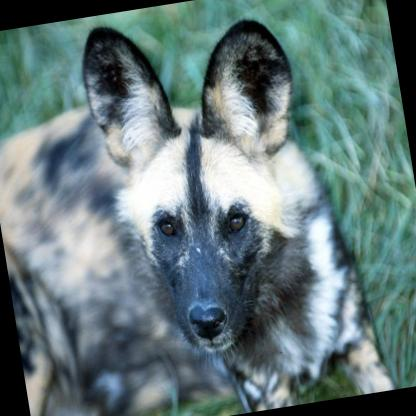African_hunting_dog: (0, 0, 392, 416)
